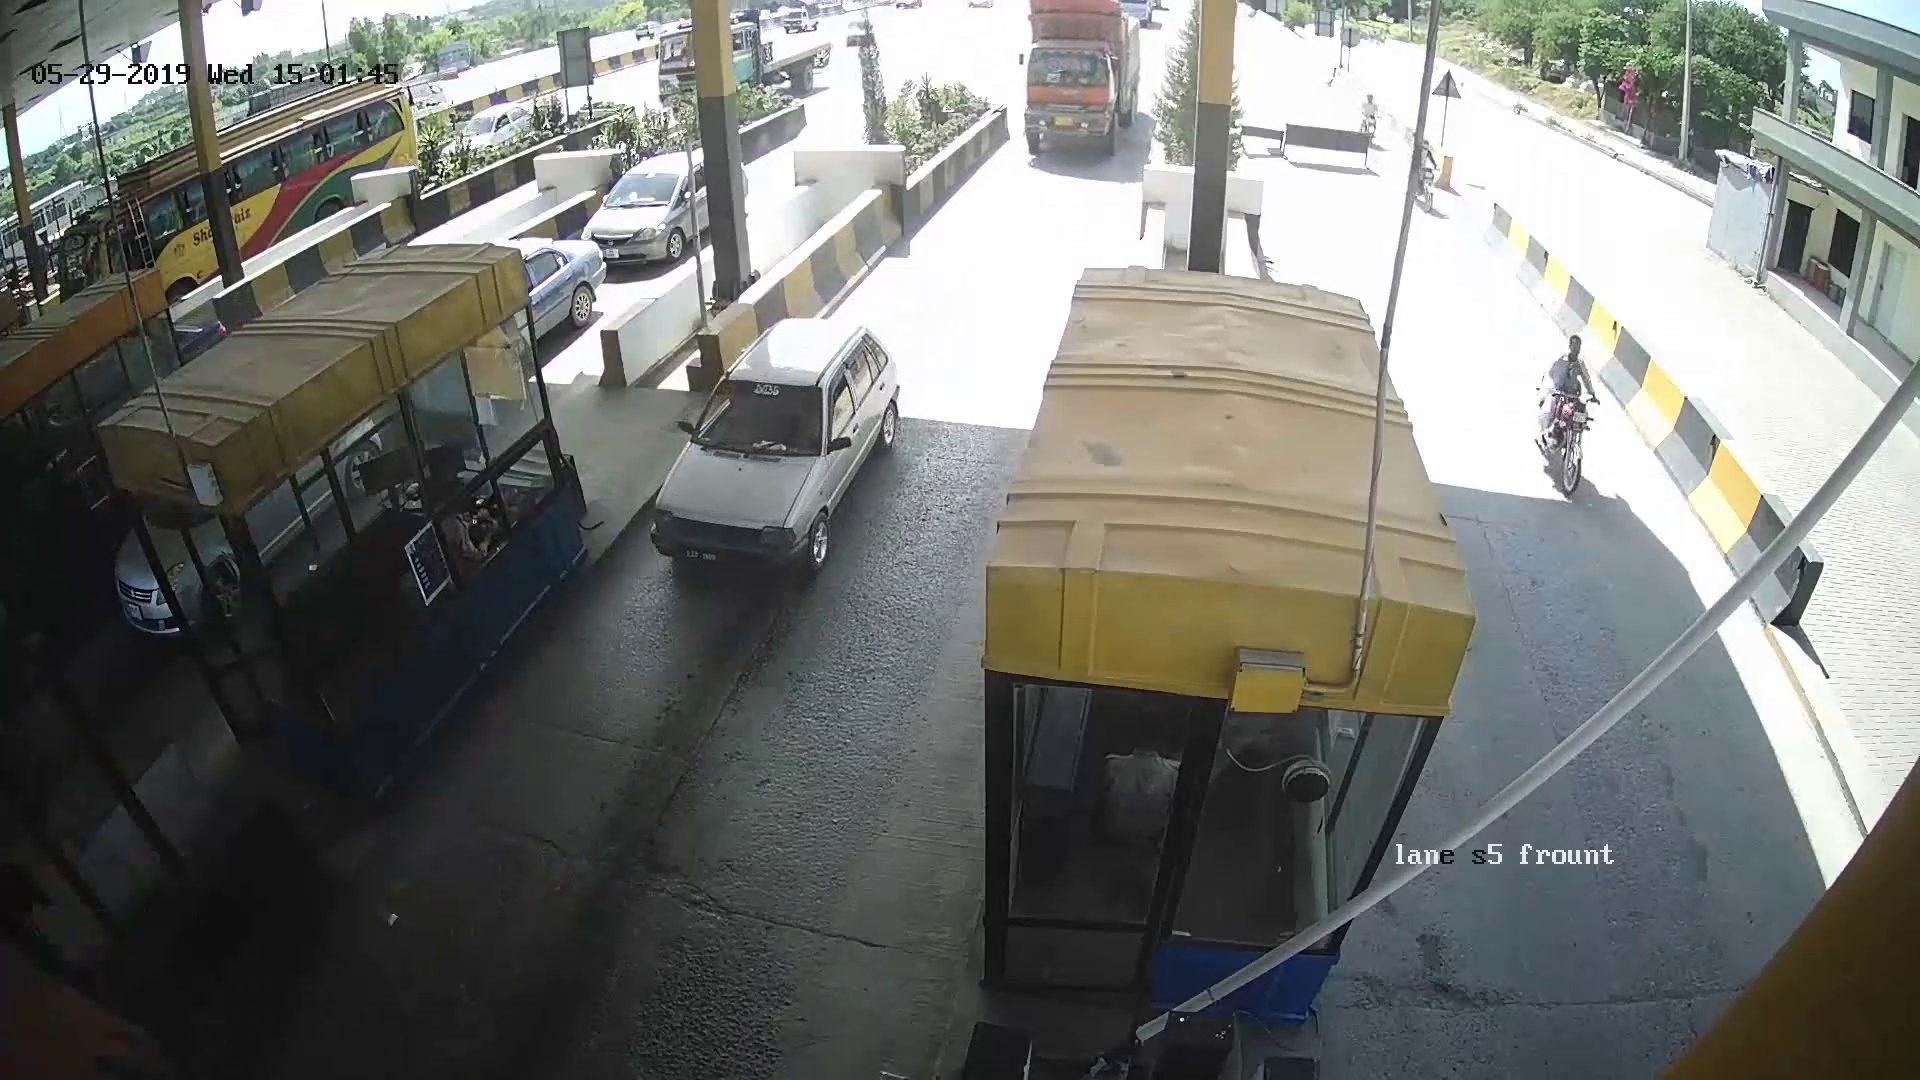car: (687, 357, 895, 558)
truck: (1004, 25, 1129, 152)
